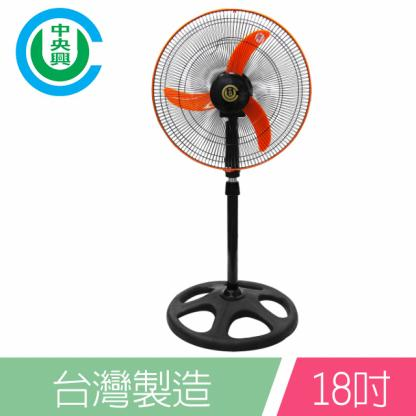fan: (149, 6, 316, 354)
